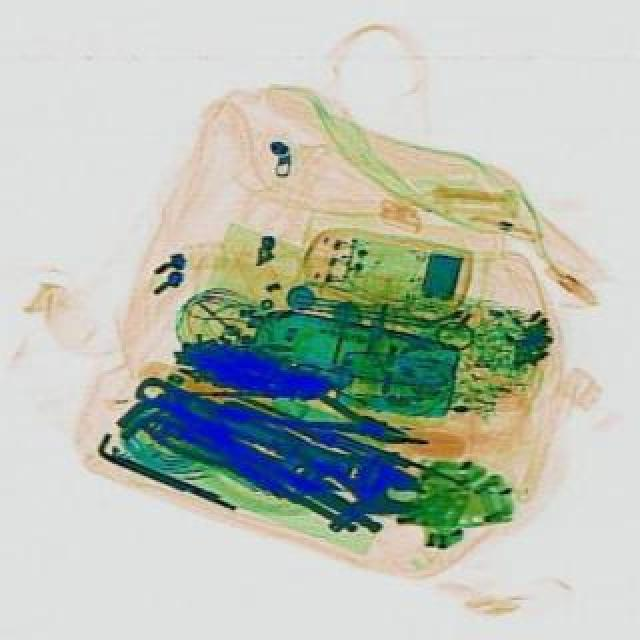scissors: (124, 356, 432, 532)
wrench: (220, 358, 414, 462)
